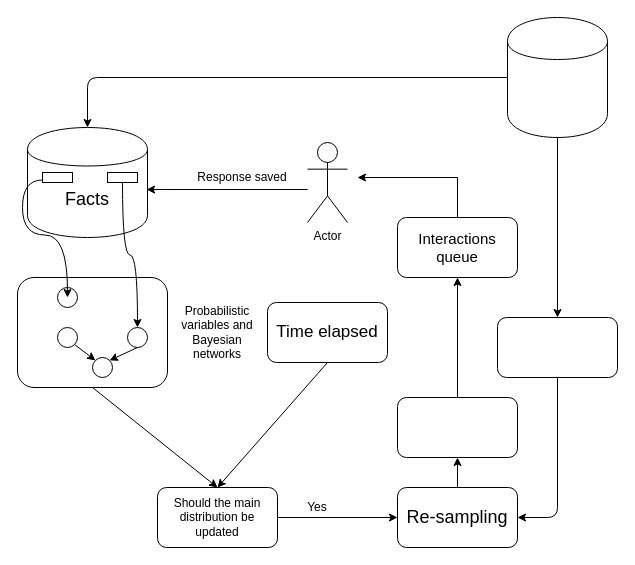
The diagram is 635 pixels wide and 565 high, and some of its shapes have lost their labels. The centre of each missing label's shape, as x and y in pixels:
"Interactions Adjustments" goes at (457,427).
"Item selection" goes at (557,347).
"Items" goes at (557,77).
